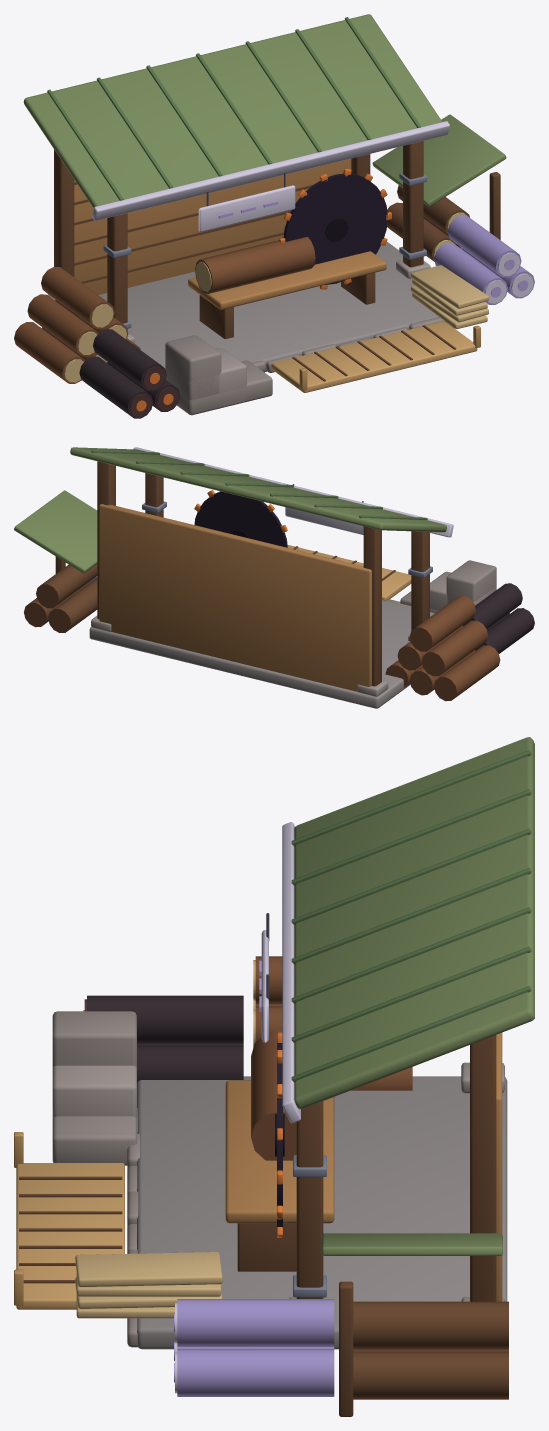
Rendered from sawmill4.glb.
The picture shows the model from 3 angles, top to bottom: view 1: azimuth 30°, elevation 25°; view 2: azimuth 150°, elevation 25°; view 3: azimuth 270°, elevation 25°; orthographic projection. The views are drawn at different scales.
Parts seen in each view (by area): view 1: base, glimplank-trim, obsidian-blade, emberwood-logs; view 2: base, obsidian-blade, emberwood-logs, glimplank-trim; view 3: base, emberwood-logs, glimplank-trim, obsidian-blade.
Part boxes in pixels (x1,y1,x2,y2): base: (14,14,534,415); glimplank-trim: (92,121,449,232); obsidian-blade: (279,169,391,289); emberwood-logs: (79,329,179,418); base: (14,447,500,708); obsidian-blade: (194,490,287,547); emberwood-logs: (463,583,534,653); glimplank-trim: (133,447,453,537); base: (14,737,534,1416); emberwood-logs: (83,995,243,1082); glimplank-trim: (259,822,300,1123); obsidian-blade: (275,1032,284,1237).
Bounding box in the file's own units: 7.24 × 3.25 × 4.32.
